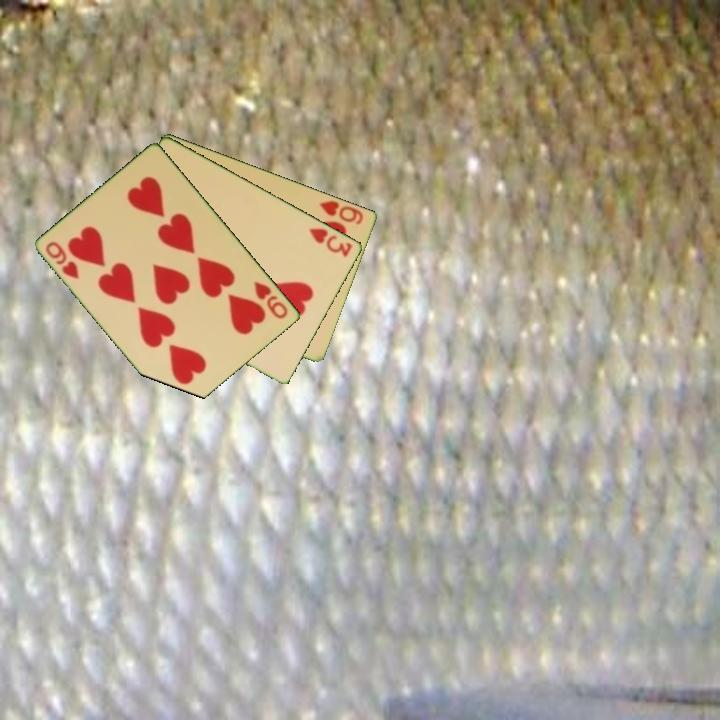3h: (306, 224, 355, 260)
6h: (316, 197, 366, 227)
9h: (251, 278, 291, 322), (42, 238, 82, 282)
